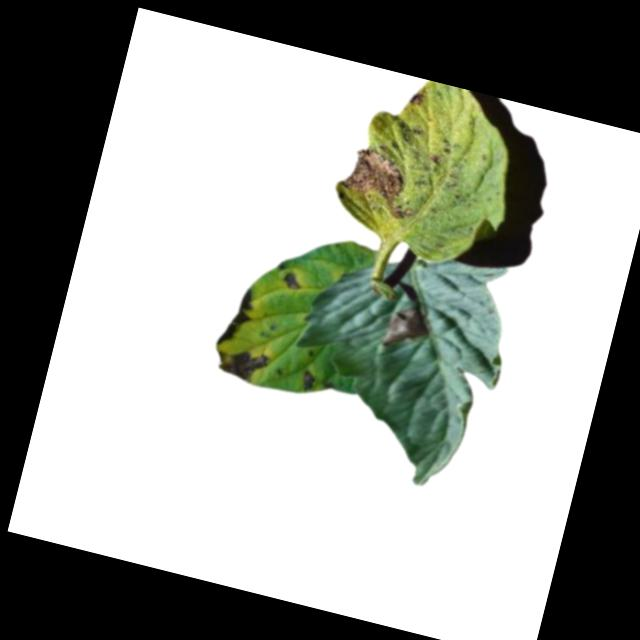Early_blight: (331, 143, 425, 223), (377, 299, 434, 356), (214, 284, 258, 351), (209, 342, 272, 387), (278, 272, 307, 295), (405, 87, 427, 113), (298, 368, 318, 393)
